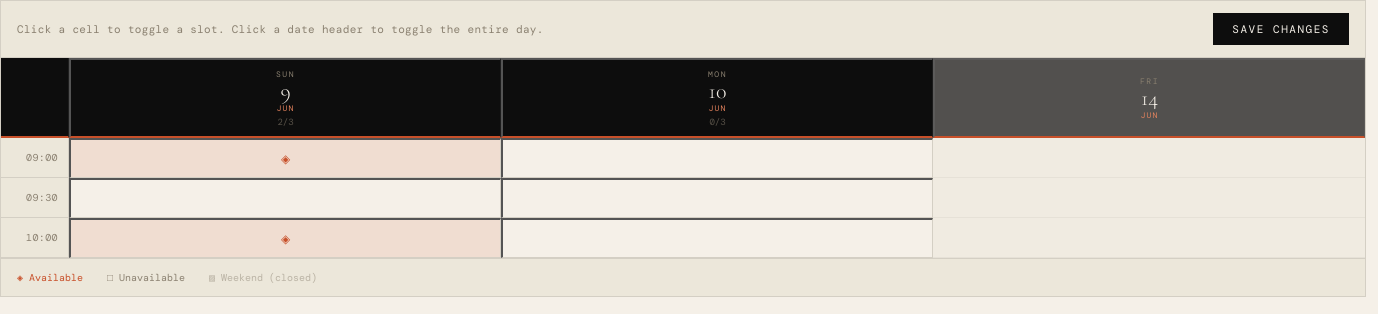
AvailabilityGrid › shows ✓ Saved after a successful save
The image size is (1378, 314).
Expected: the table with class "avail-grid__table" is shown, [1,58,1365,138]
Click the button "Save Changes".
click(1281, 29)  # box [1213,13,1349,45]
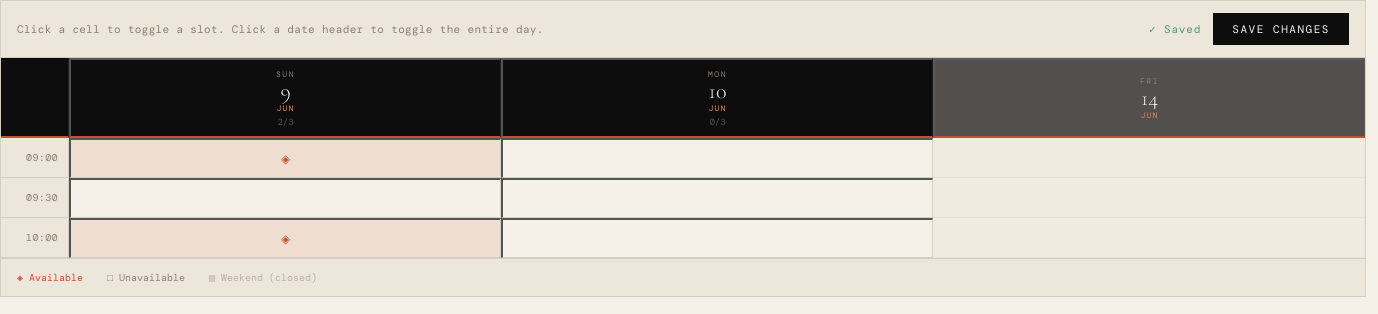
Now the text "✓ Saved" is shown, box [1149,20,1201,38]
